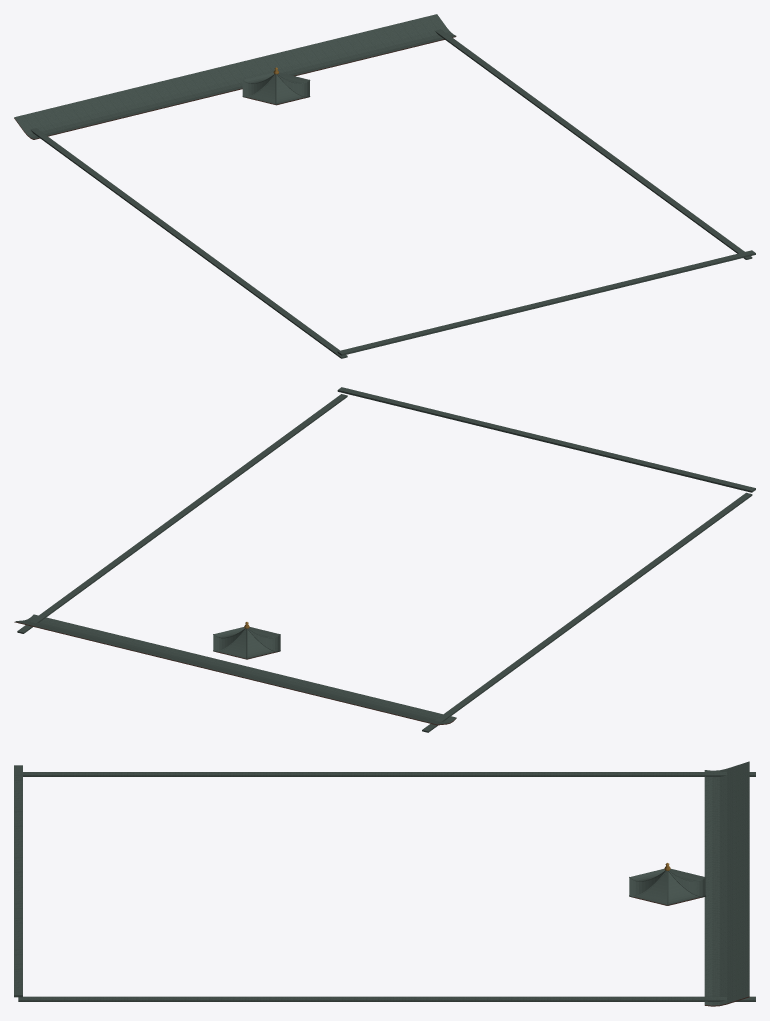
The model's file is garden_roofs.glb.
3 views of the same model, one above another, from view 1: azimuth 30°, elevation 25°; view 2: azimuth 150°, elevation 25°; view 3: azimuth 270°, elevation 25° (orthographic). The views are drawn at different scales.
Parts seen in each view (by area): view 1: garden_roofs0; view 2: garden_roofs0; view 3: garden_roofs0.
Boxes of the visible parts, x1,y1,x2,y2 form: garden_roofs0: [14, 14, 755, 358]; garden_roofs0: [14, 387, 755, 732]; garden_roofs0: [14, 761, 755, 1006].
Size of the model in its own units: 46 by 3.16 by 61.39.
Materials: 1 (1 with a texture image).
